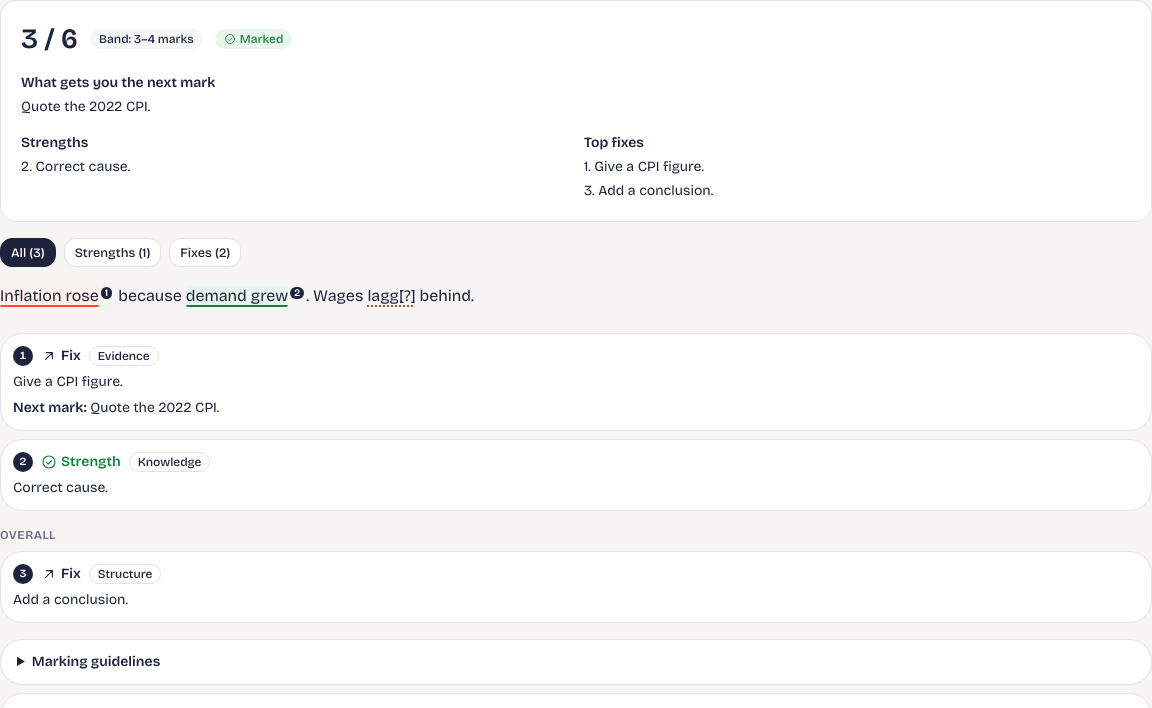
opens the comment in a popover when a highlight is tapped on narrow screens
The image size is (1152, 708).
Expected: the text "Give a CPI figure." is shown once, [13, 373, 123, 390]
Click the button with aria-label "Fix 1". click: x=49, y=297
box: [0, 286, 99, 307]
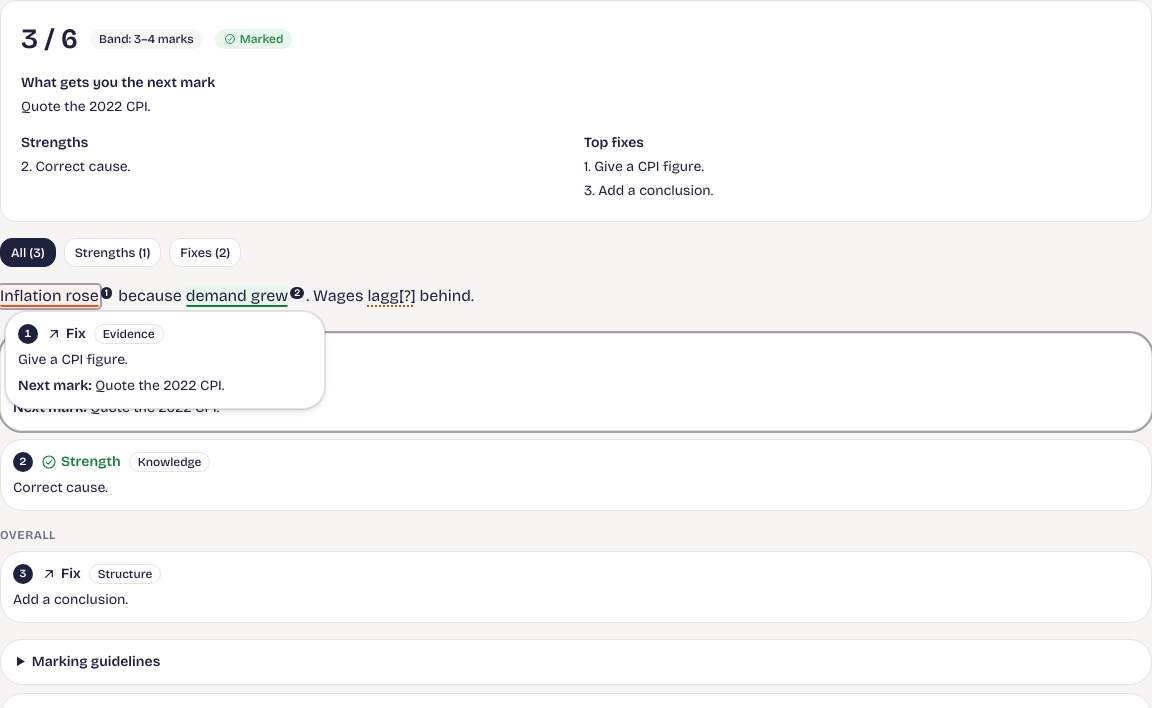
Expected: the text "Give a CPI figure." is shown 2 times, [13, 373, 123, 390]; [18, 351, 128, 368]
